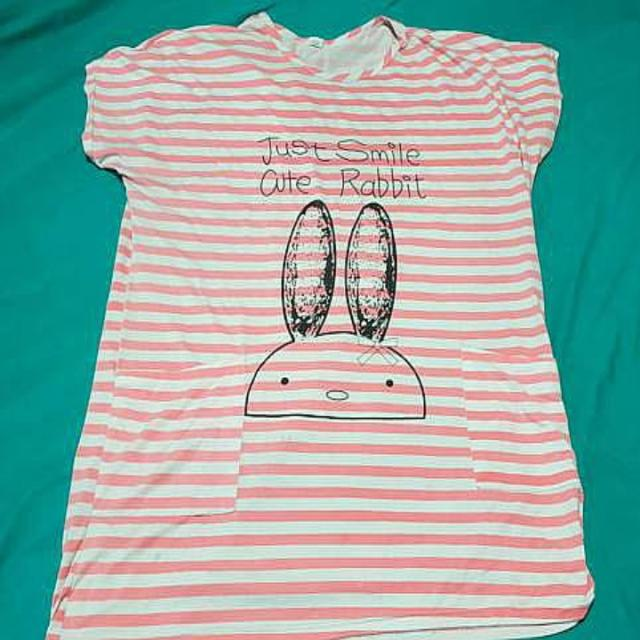T_SHIRT: (41, 15, 604, 640)
